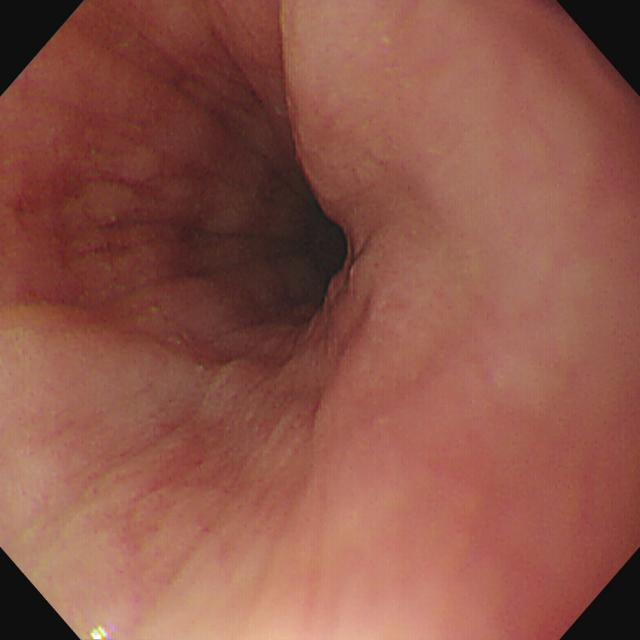E: (290, 186, 348, 309)
